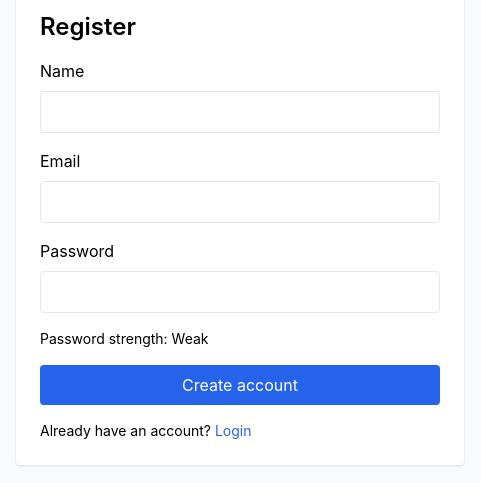
Test: RegisterPage › disables submit button during submission
Type "New User" into the field labelled "Name" at (240, 112), box [40,91,440,133]
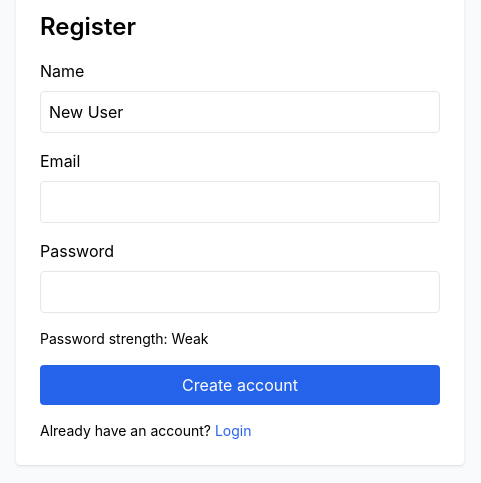
Type "new@example.com" into the field labelled "Email" at (240, 202), box [40,181,440,223]
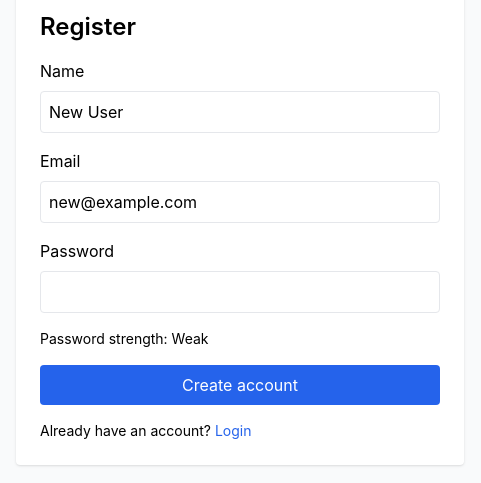
Type "password123" into the password field labelled "Password" at (240, 292), box [40,271,440,313]
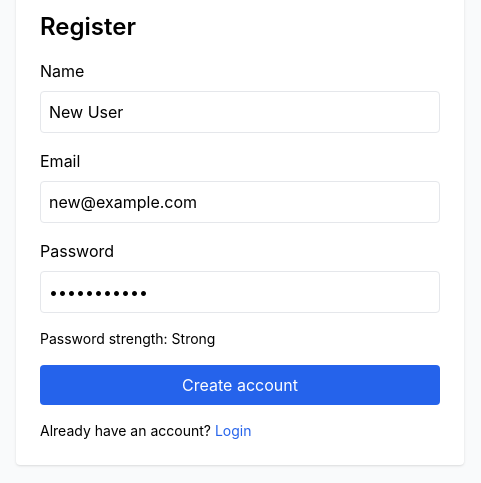
Click the button "Create account" at (240, 385), box [40,365,440,405]
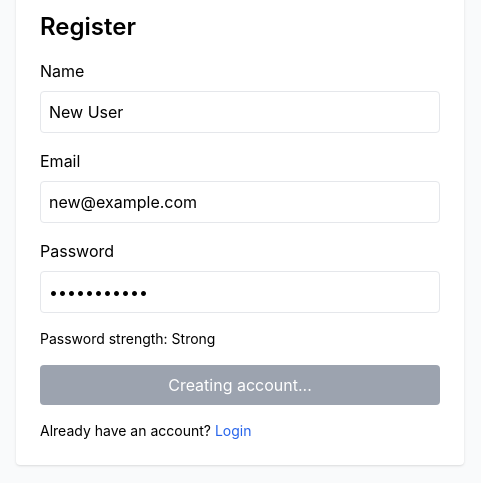
Check: the button "Creating account..." is disabled, box [40,365,440,405]
